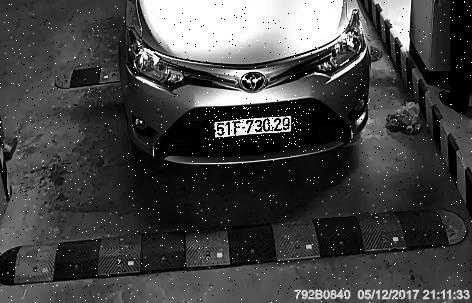License-plate: (205, 108, 303, 148)
